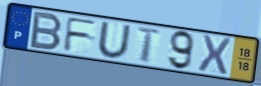9: (167, 29, 196, 72)
B: (28, 10, 65, 52)
F: (62, 16, 100, 53)
T: (135, 26, 163, 65)
U: (96, 21, 133, 61)
X: (196, 33, 233, 76)
